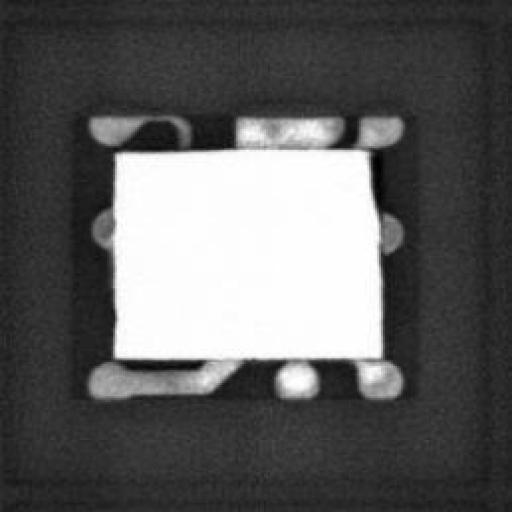DIE_BROKEN: (363, 142, 381, 216)
